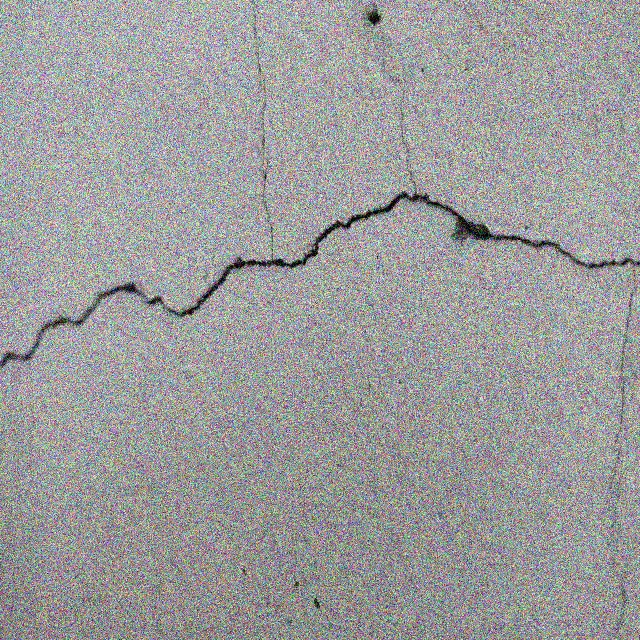SurfaceCrack: (10, 167, 640, 390)
